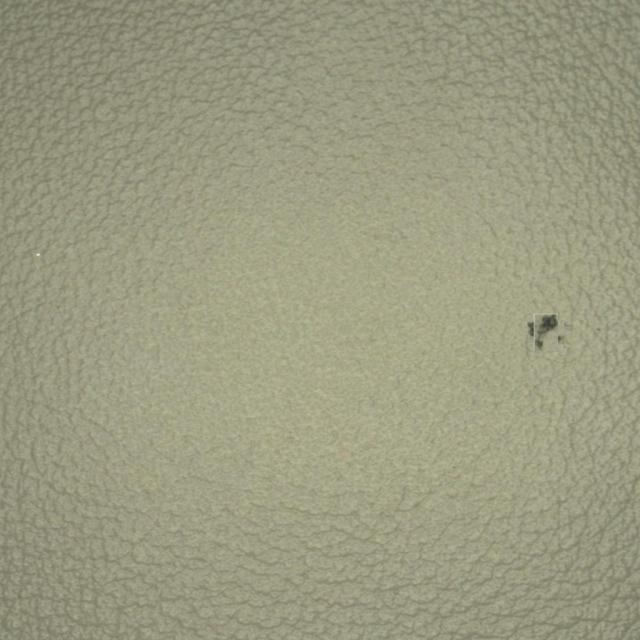Hole: (473, 256, 606, 419)
